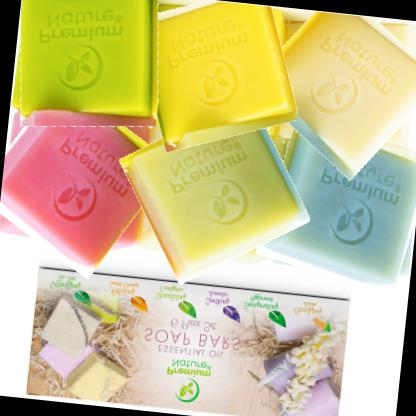soap: (121, 98, 309, 282), (0, 86, 168, 273), (252, 6, 415, 175), (258, 117, 415, 291), (128, 0, 301, 157), (8, 0, 168, 137)
